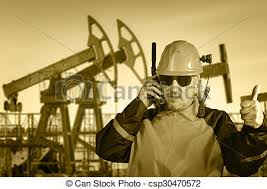Person_wearing_helmet: (146, 37, 209, 89)
